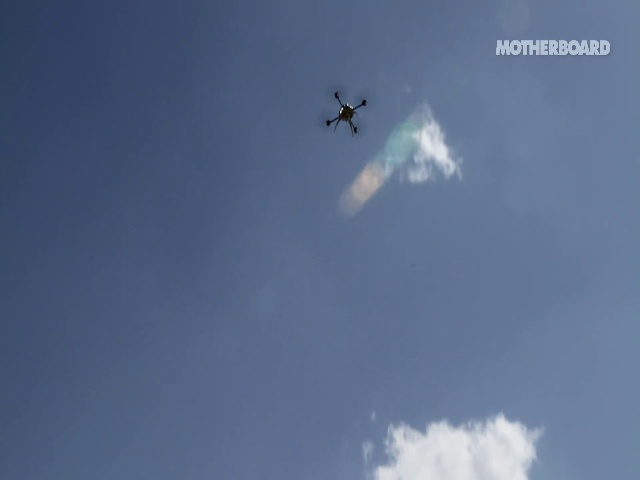drone: (319, 82, 377, 141)
